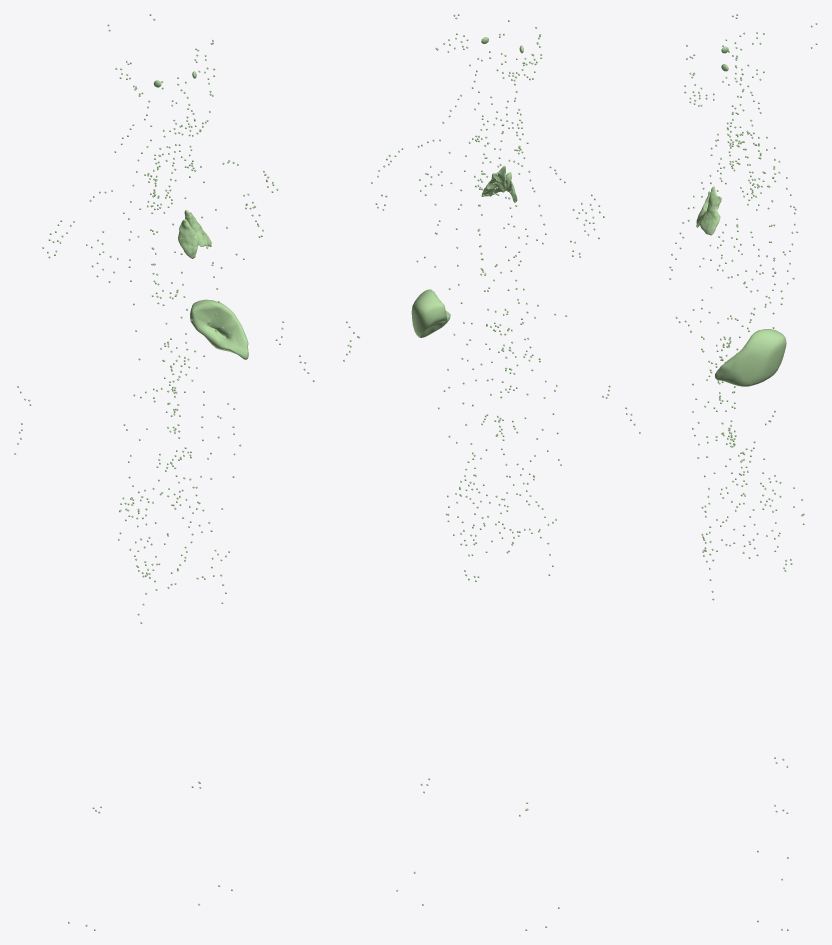
The model's file is lymphatic.glb.
3 views of the same model, side by side, from view 1: azimuth 30°, elevation 25°; view 2: azimuth 150°, elevation 25°; view 3: azimuth 270°, elevation 25° (orthographic).
Visible parts, largest first — view 1: LYM.spleen.C; view 2: LYM.spleen.C; view 3: LYM.spleen.C, LYM.left_lobe_of_thymus.C.
Boxes of the visible parts, box(x1,y1,x2,y2) form: LYM.spleen.C: box(190, 299, 248, 359); LYM.spleen.C: box(411, 289, 450, 337); LYM.spleen.C: box(715, 329, 786, 386); LYM.left_lobe_of_thymus.C: box(699, 186, 721, 235).
Bounding box in the file's own units: 0.4523 × 1.28 × 0.1963.
